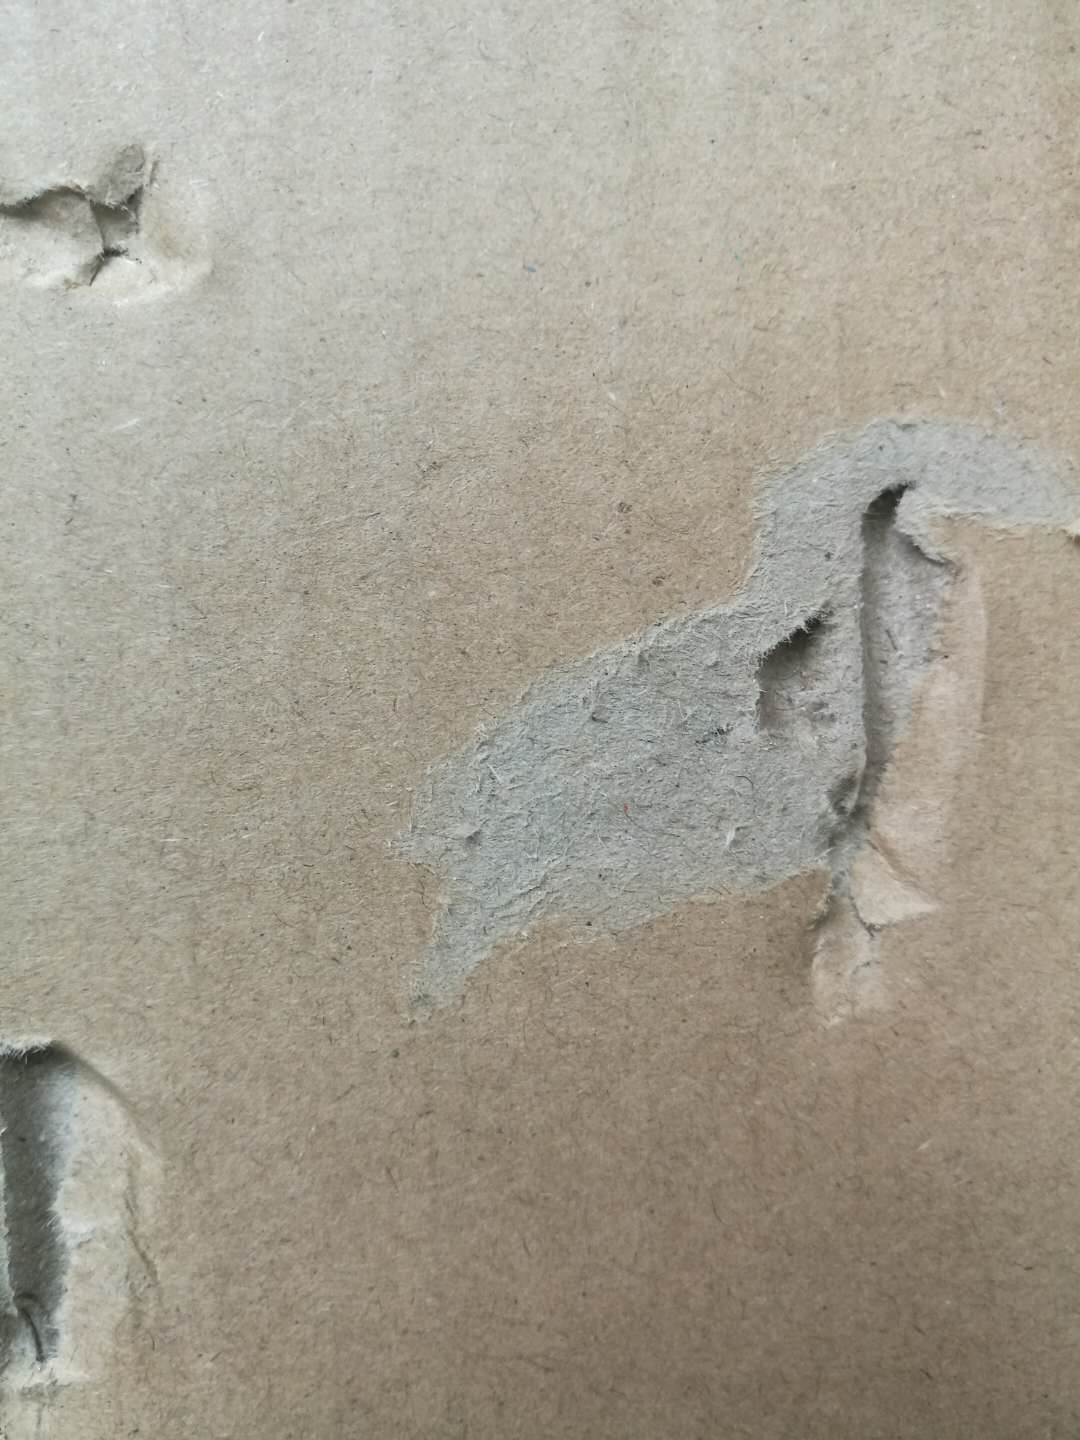defect: (363, 388, 1080, 1035), (1, 992, 204, 1440), (2, 125, 242, 341)
